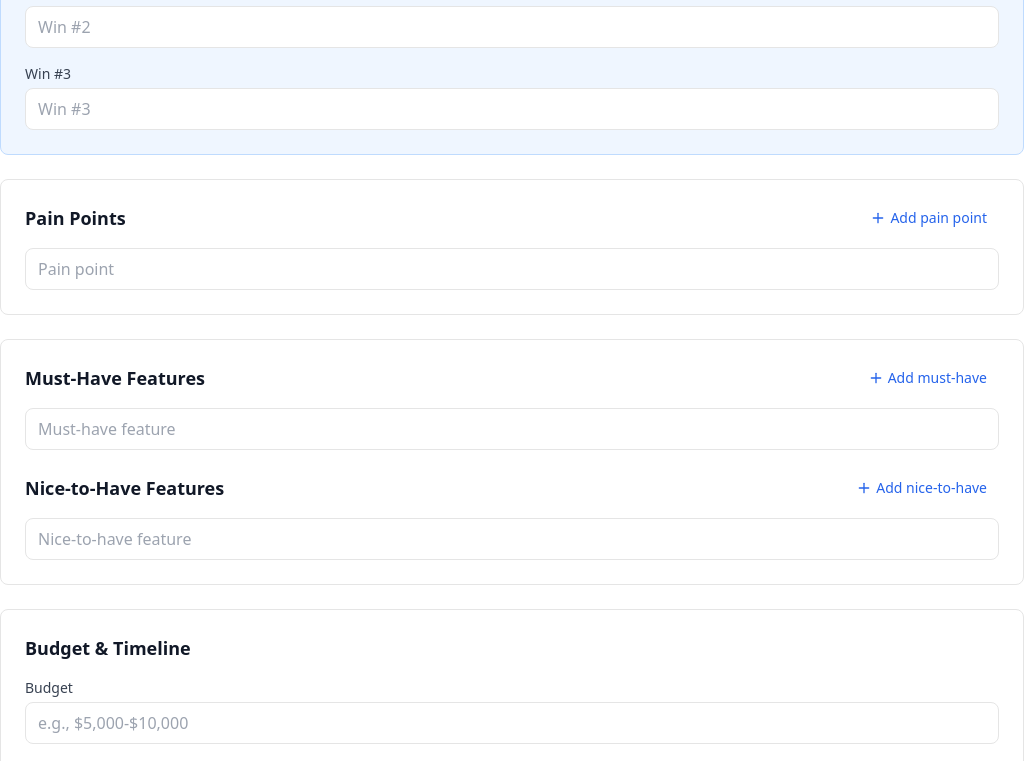
Test: ClientInfoForm › Features Section › should allow adding must-have features
This screenshot has width=1024, height=761.
(page scrolled)
What coordinates should you click on to do the following:
click the button "Add must-have"
I would click on:
 (927, 378)
Its box is [856,364,999,392].
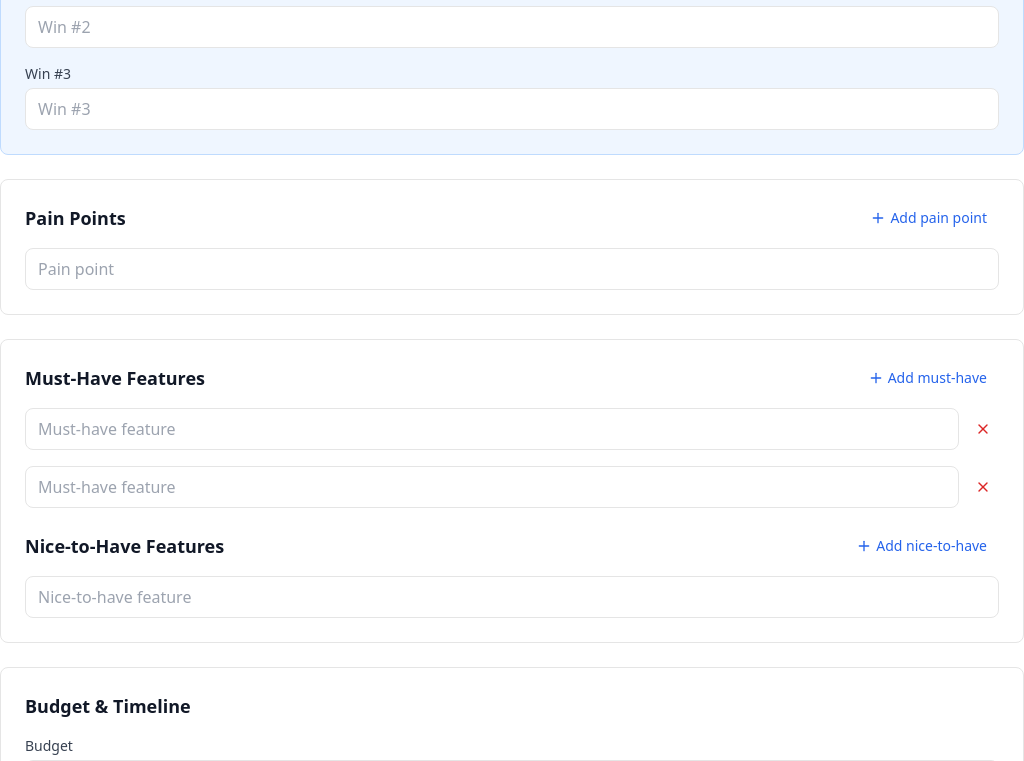
Check: the number of fields with placeholder "Must-have feature" is 2, box [25,408,959,450]; [25,466,959,508]
